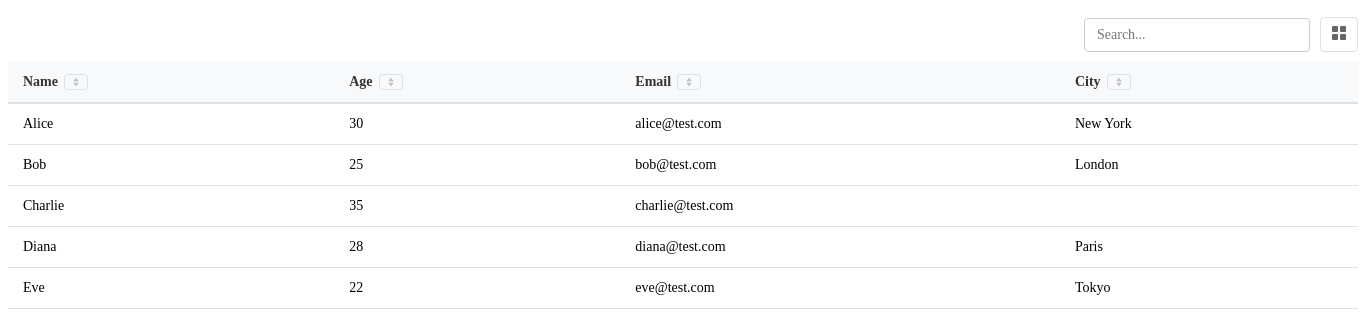
Test: Table Component › Searching › search is case-insensitive
In the field named "Search table data": coordinates (1197, 34) [1084,18,1310,52], type "BOB"
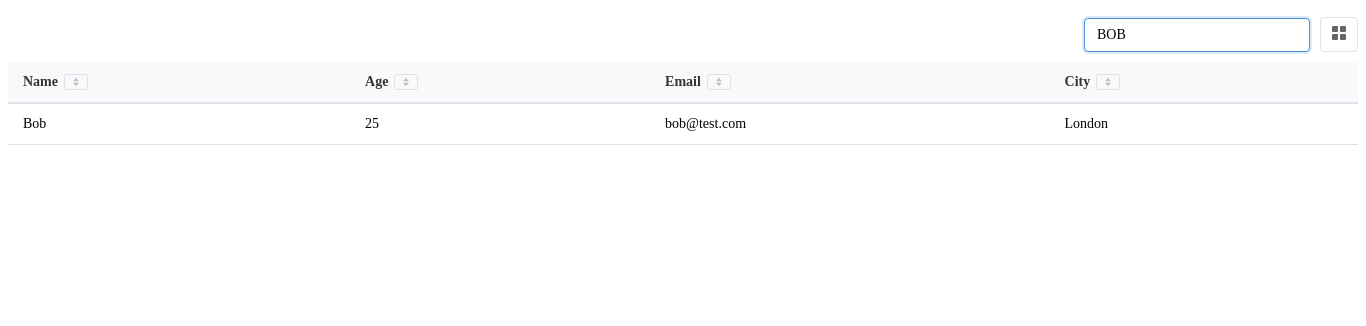
expect the text "Bob" is shown: met, box [8,103,350,144]
expect the text "Alice" is gone: met
